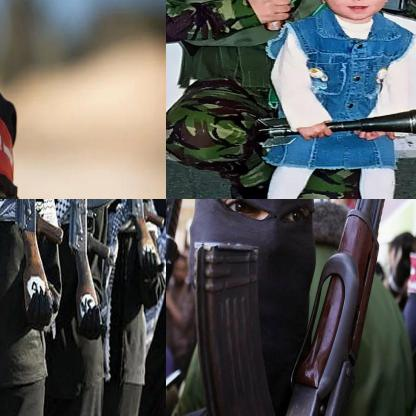rifle: (192, 199, 415, 415), (13, 199, 82, 311), (70, 199, 129, 312), (117, 199, 165, 270)
